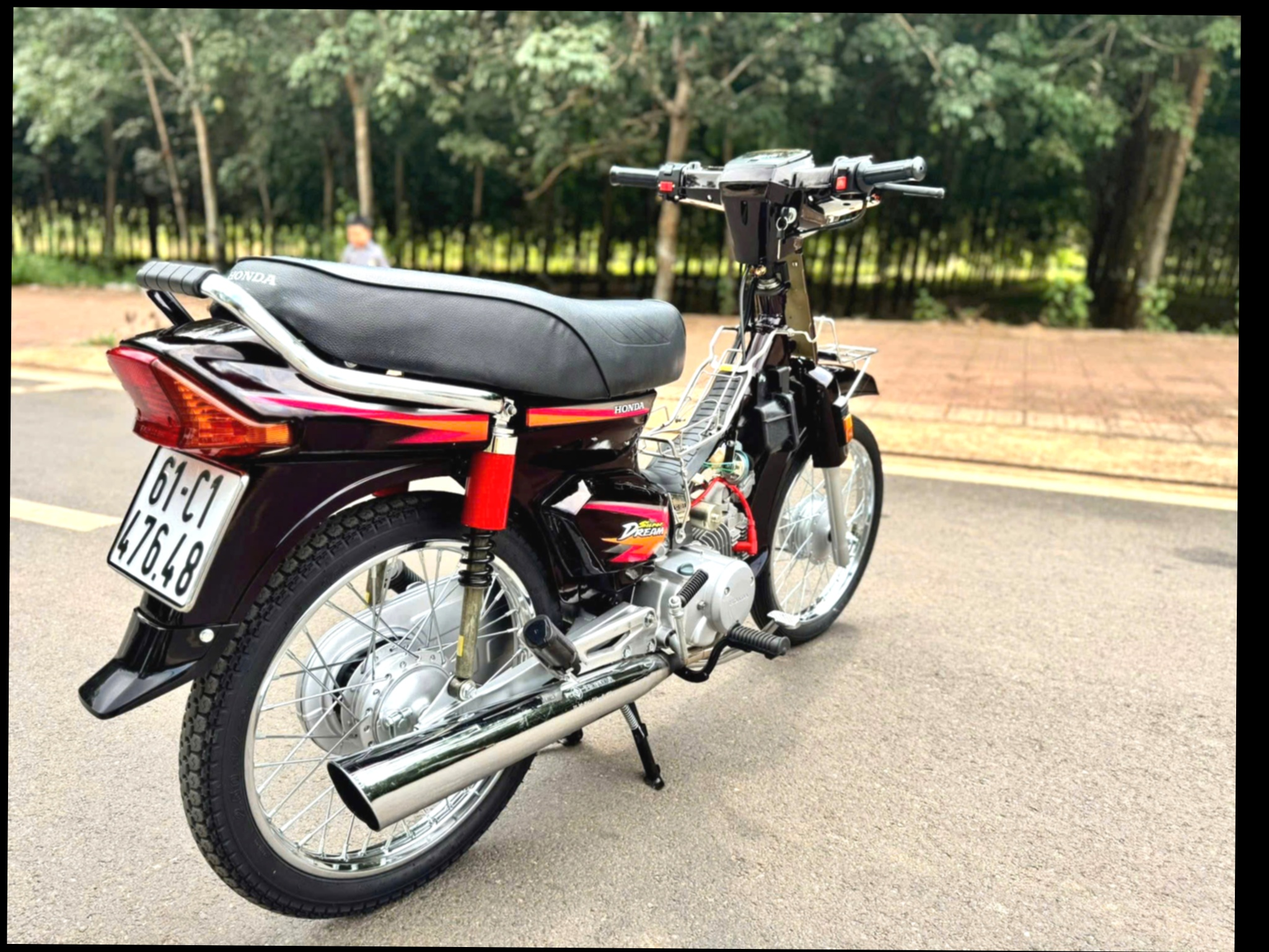Bien-so: (93, 426, 256, 592)
